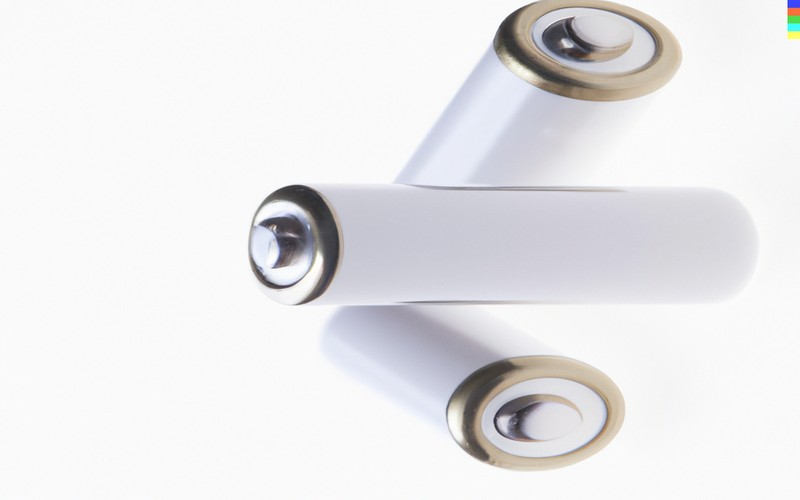Battery: (227, 151, 770, 328)
